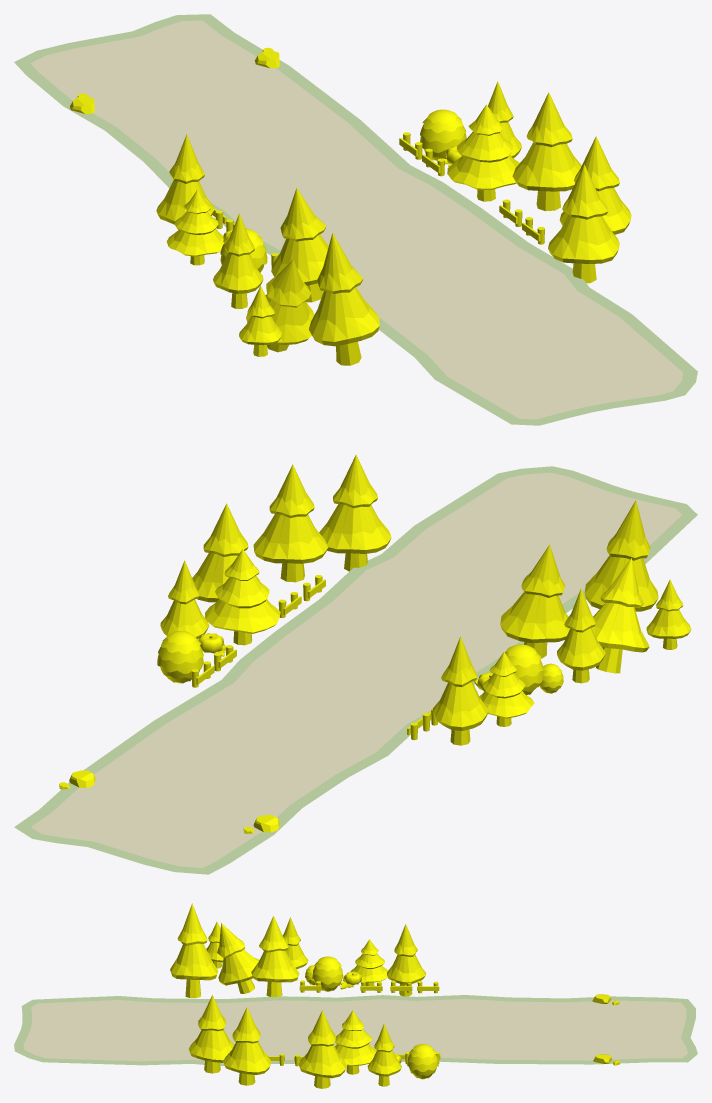
3 views of the same model, one above another, from view 1: azimuth 30°, elevation 25°; view 2: azimuth 150°, elevation 25°; view 3: azimuth 270°, elevation 25° (orthographic). The views are drawn at different scales.
Visible parts, largest first — view 1: Plane (1), MapDeco_Natural_Tree_Evergreen_03 (6), MapDeco_Natural_Tree_Evergreen_03 (14), MapDeco_Natural_Tree_Evergreen_03 (13), Cylinder02, MapDeco_Natural_Tree_Evergreen_03 (12), MapDeco_Natural_Tree_Evergreen_03 (7), MapDeco_Natural_Tree_Evergreen_03 (9), Tree1, MapDeco_Natural_Tree_Evergreen_03 (7) 1, MapDeco_Natural_Tree_Evergreen_03 (11), Bush1 (+3 smaller); view 2: Plane (1), MapDeco_Natural_Tree_Evergreen_03 (11), MapDeco_Natural_Tree_Evergreen_03 (14), MapDeco_Natural_Tree_Evergreen_03 (12), Cylinder02, MapDeco_Natural_Tree_Evergreen_03 (7), MapDeco_Natural_Tree_Evergreen_03 (6), MapDeco_Natural_Tree_Evergreen_03 (7) 1, MapDeco_Natural_Tree_Evergreen_03 (13), MapDeco_Natural_Tree_Evergreen_03 (9), Tree1, MapDeco_Natural_Tree_Evergreen_03 (8) (+3 smaller); view 3: Plane (1), MapDeco_Natural_Tree_Evergreen_03 (6), MapDeco_Natural_Tree_Evergreen_03 (11), MapDeco_Natural_Tree_Evergreen_03 (12), MapDeco_Natural_Tree_Evergreen_03 (13), MapDeco_Natural_Tree_Evergreen_03 (14), MapDeco_Natural_Tree_Evergreen_03 (7), Cylinder02, MapDeco_Natural_Tree_Evergreen_03 (7) 1, MapDeco_Natural_Tree_Evergreen_03 (8), Tree1, Bush1 (+3 smaller).
Boxes of the visible parts, x1,y1,x2,y2 form: Plane (1): [14, 14, 697, 425]; MapDeco_Natural_Tree_Evergreen_03 (6): [309, 233, 379, 365]; MapDeco_Natural_Tree_Evergreen_03 (14): [548, 164, 619, 283]; MapDeco_Natural_Tree_Evergreen_03 (13): [512, 92, 581, 211]; Cylinder02: [447, 104, 519, 201]; MapDeco_Natural_Tree_Evergreen_03 (12): [271, 188, 328, 302]; MapDeco_Natural_Tree_Evergreen_03 (7): [246, 259, 314, 352]; MapDeco_Natural_Tree_Evergreen_03 (9): [213, 213, 263, 308]; Tree1: [166, 190, 224, 265]; MapDeco_Natural_Tree_Evergreen_03 (7) 1: [156, 134, 214, 224]; MapDeco_Natural_Tree_Evergreen_03 (11): [559, 136, 631, 234]; Bush1: [420, 109, 466, 160]; Plane (1): [14, 466, 697, 874]; MapDeco_Natural_Tree_Evergreen_03 (11): [253, 464, 328, 582]; MapDeco_Natural_Tree_Evergreen_03 (14): [319, 454, 391, 571]; MapDeco_Natural_Tree_Evergreen_03 (12): [500, 544, 570, 658]; Cylinder02: [205, 549, 280, 645]; MapDeco_Natural_Tree_Evergreen_03 (7): [591, 558, 649, 673]; MapDeco_Natural_Tree_Evergreen_03 (6): [584, 500, 658, 611]; MapDeco_Natural_Tree_Evergreen_03 (7) 1: [432, 636, 488, 745]; MapDeco_Natural_Tree_Evergreen_03 (13): [192, 503, 260, 602]; MapDeco_Natural_Tree_Evergreen_03 (9): [557, 588, 605, 683]; Tree1: [479, 652, 534, 726]; MapDeco_Natural_Tree_Evergreen_03 (8): [160, 560, 209, 639]; Plane (1): [14, 995, 697, 1065]; MapDeco_Natural_Tree_Evergreen_03 (6): [170, 903, 218, 997]; MapDeco_Natural_Tree_Evergreen_03 (11): [223, 1007, 271, 1085]; MapDeco_Natural_Tree_Evergreen_03 (12): [251, 916, 299, 997]; MapDeco_Natural_Tree_Evergreen_03 (13): [298, 1010, 346, 1088]; MapDeco_Natural_Tree_Evergreen_03 (14): [189, 995, 234, 1073]; MapDeco_Natural_Tree_Evergreen_03 (7): [217, 923, 259, 993]; Cylinder02: [335, 1010, 376, 1074]; MapDeco_Natural_Tree_Evergreen_03 (7) 1: [387, 924, 426, 996]; MapDeco_Natural_Tree_Evergreen_03 (8): [367, 1023, 401, 1086]; Tree1: [350, 939, 387, 985]; Bush1: [407, 1044, 438, 1079].
Size of what is drawn, in the model's own units: 12.63 by 4.08 by 26.94.
Materials: 4 (2 with a texture image).
